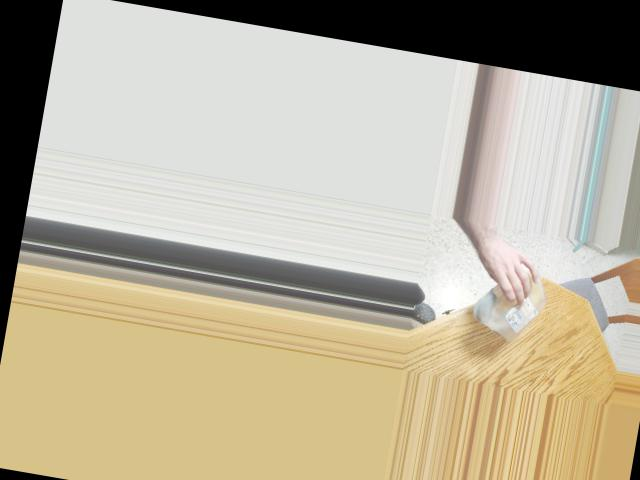cheese: (478, 254, 557, 348)
